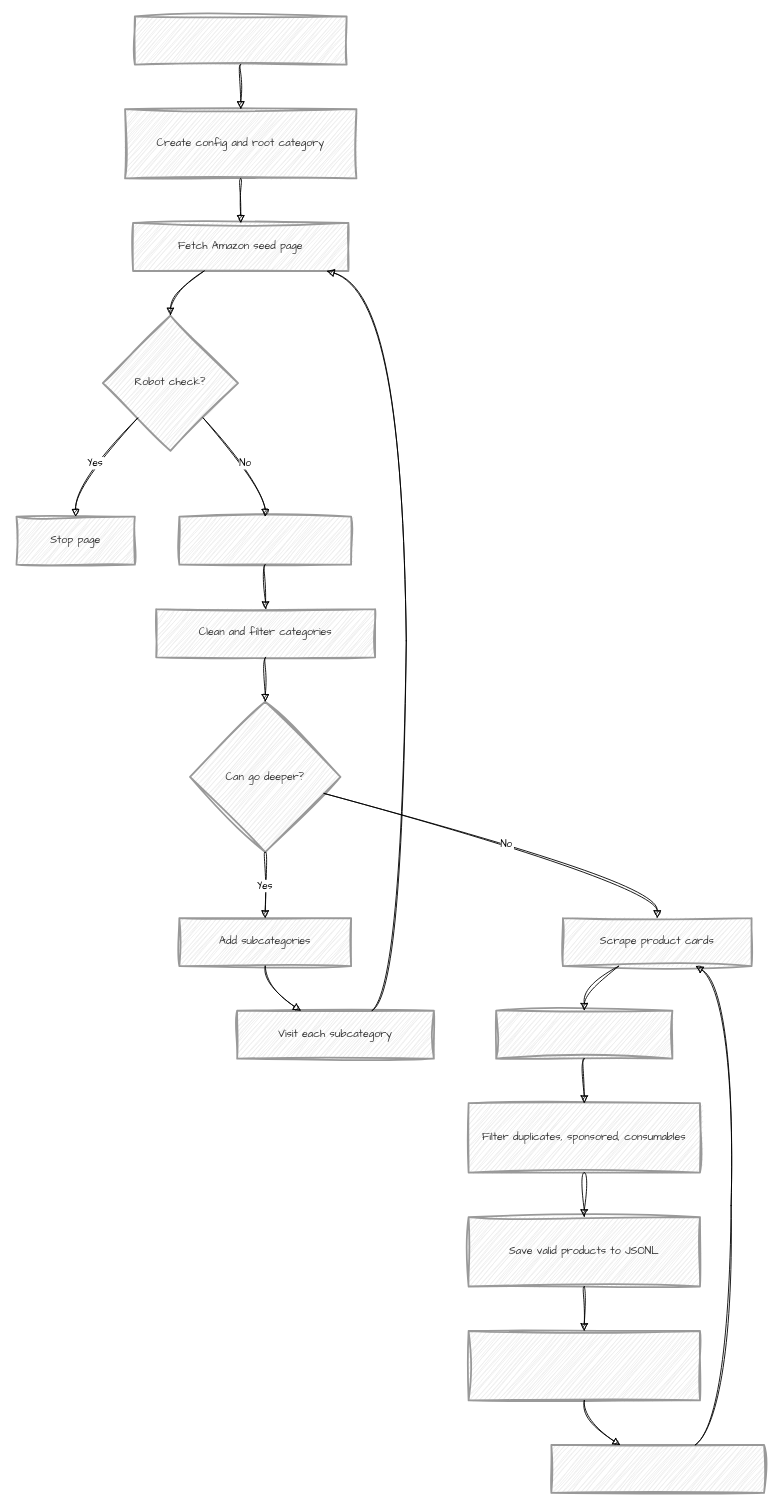
The diagram is 780 pixels wide and 1509 high, and some of its shapes have lost their labels. The centre of each missing label's shape, as x and y in pixels:
Extract product info: point (584, 1034)
Find category links: point (265, 540)
Follow next product page: point (657, 1468)
Save category/product JSON: point (583, 1365)
Start amazon_scraper.py: point (240, 40)
